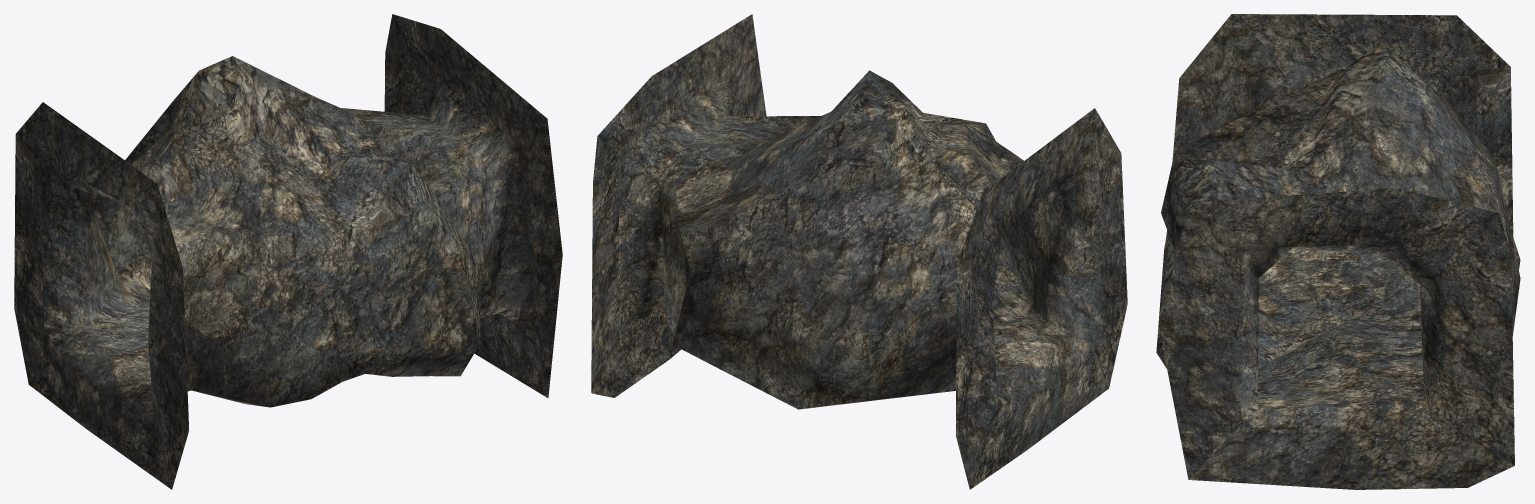
Rendered from Module6_LOD2.fbx.
The picture shows the model from 3 angles, left to right: view 1: azimuth 30°, elevation 25°; view 2: azimuth 150°, elevation 25°; view 3: azimuth 270°, elevation 25°; orthographic projection.
Parts seen in each view (by area): view 1: cave_el6_900_Group4965; view 2: cave_el6_900_Group4965; view 3: cave_el6_900_Group4965.
Part boxes in pixels (<box>): cave_el6_900_Group4965: <box>14,14,562,489</box>; cave_el6_900_Group4965: <box>591,14,1127,489</box>; cave_el6_900_Group4965: <box>1156,14,1520,489</box>.
Bounding box in the file's own units: 10.6 × 8.72 × 8.74.
